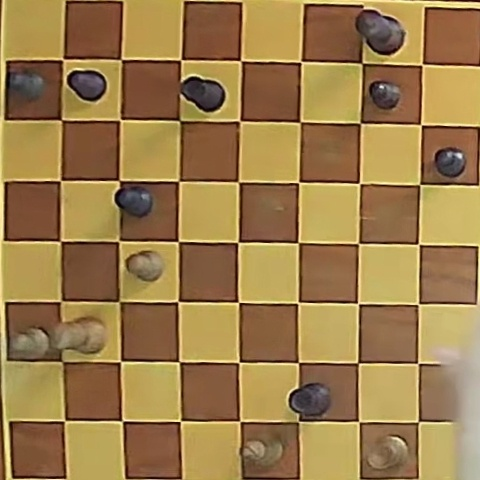black-king: (355, 9, 405, 55)
black-pawn: (68, 70, 108, 101), (8, 69, 45, 101), (115, 186, 153, 217), (433, 147, 466, 177), (368, 80, 401, 109)
black-rook: (180, 76, 225, 112), (289, 382, 332, 418)
white-bishop: (243, 436, 284, 468)
white-king: (51, 318, 106, 354)
white-pawn: (10, 327, 51, 359), (127, 250, 164, 281)
white-rook: (366, 435, 407, 470)
